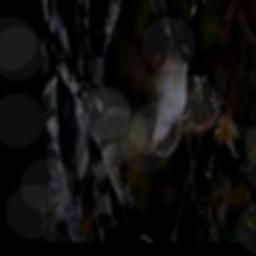Cuckoo: (144, 0, 207, 157)
